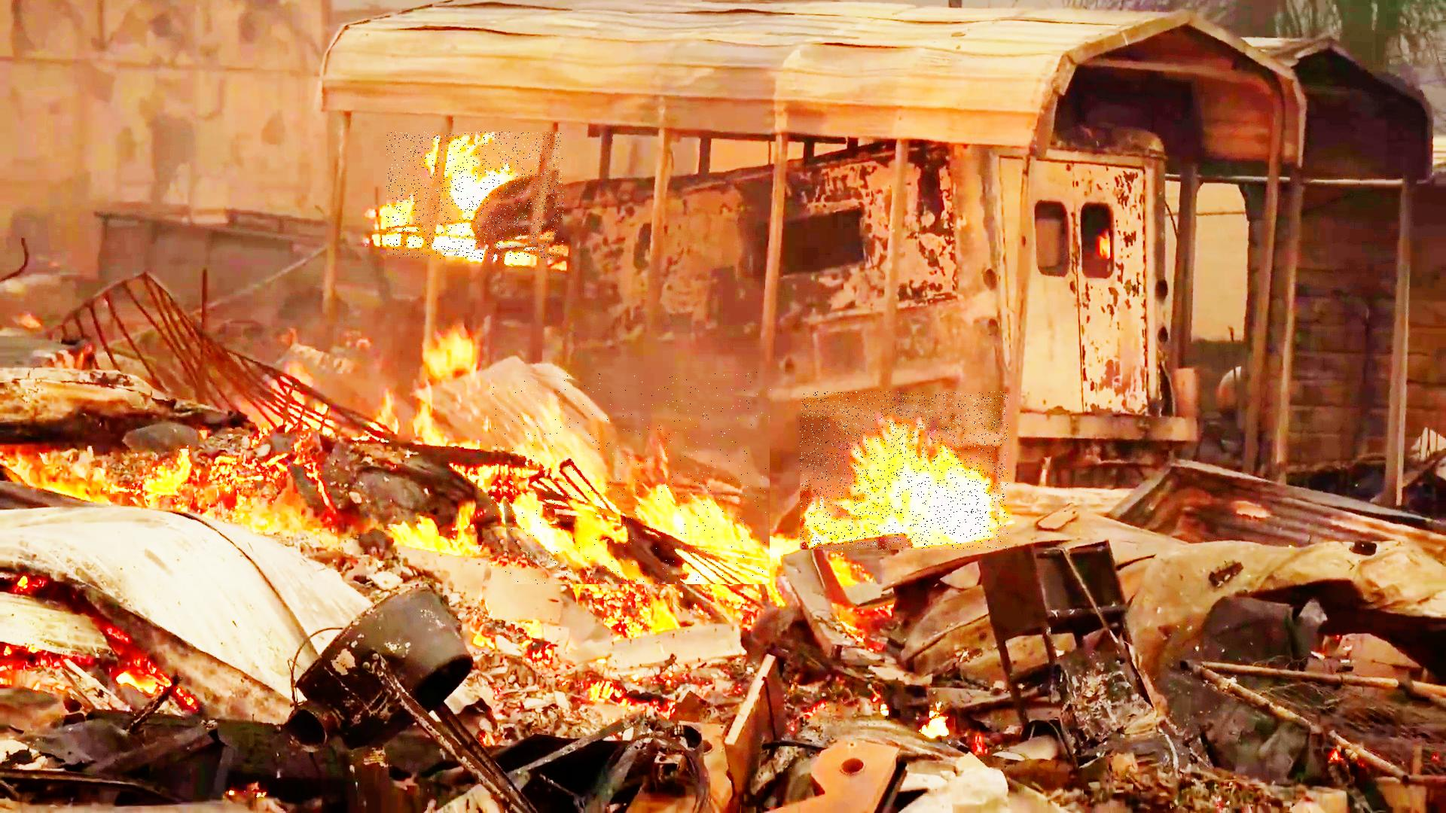fire: (492, 371, 772, 584), (801, 392, 1008, 550), (386, 132, 563, 259)
